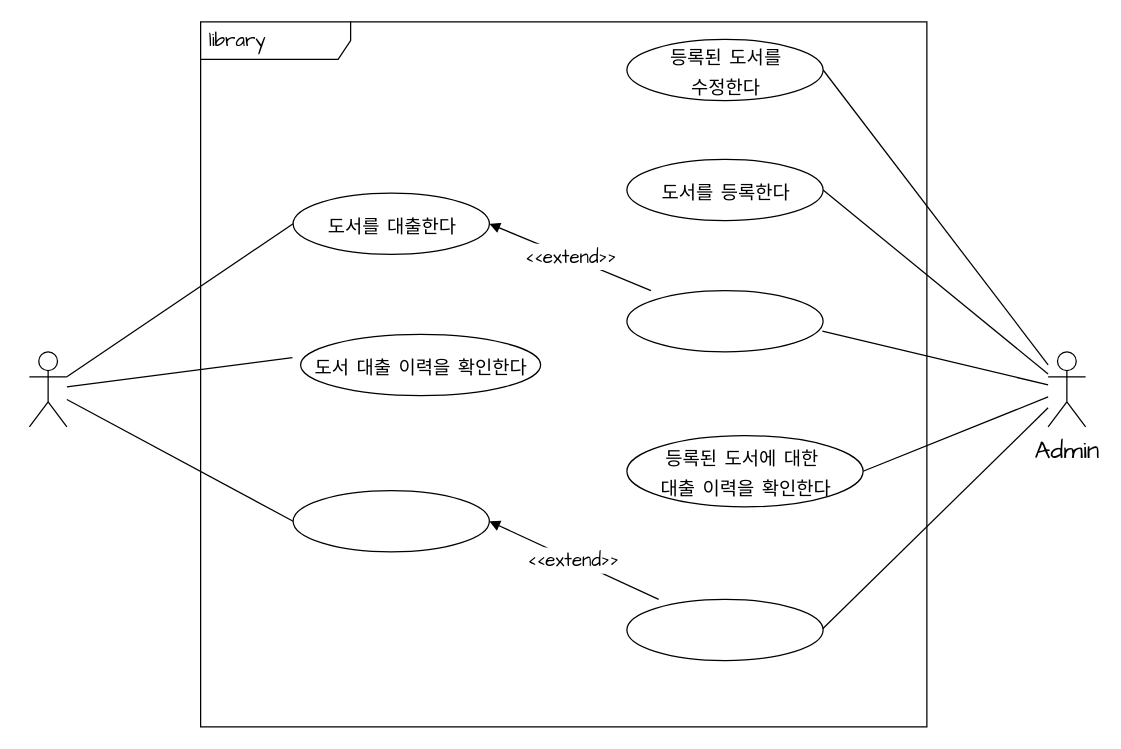
The diagram is 1121 pixels wide and 749 high, and some of its shapes have lost their labels. Each missing label, with the centre of its shape:
User: pixel 47 389
도서를 반납한다: pixel 390 520
반납을 처리한다: pixel 724 629
회원의 대출을 처리한다: pixel 724 320
